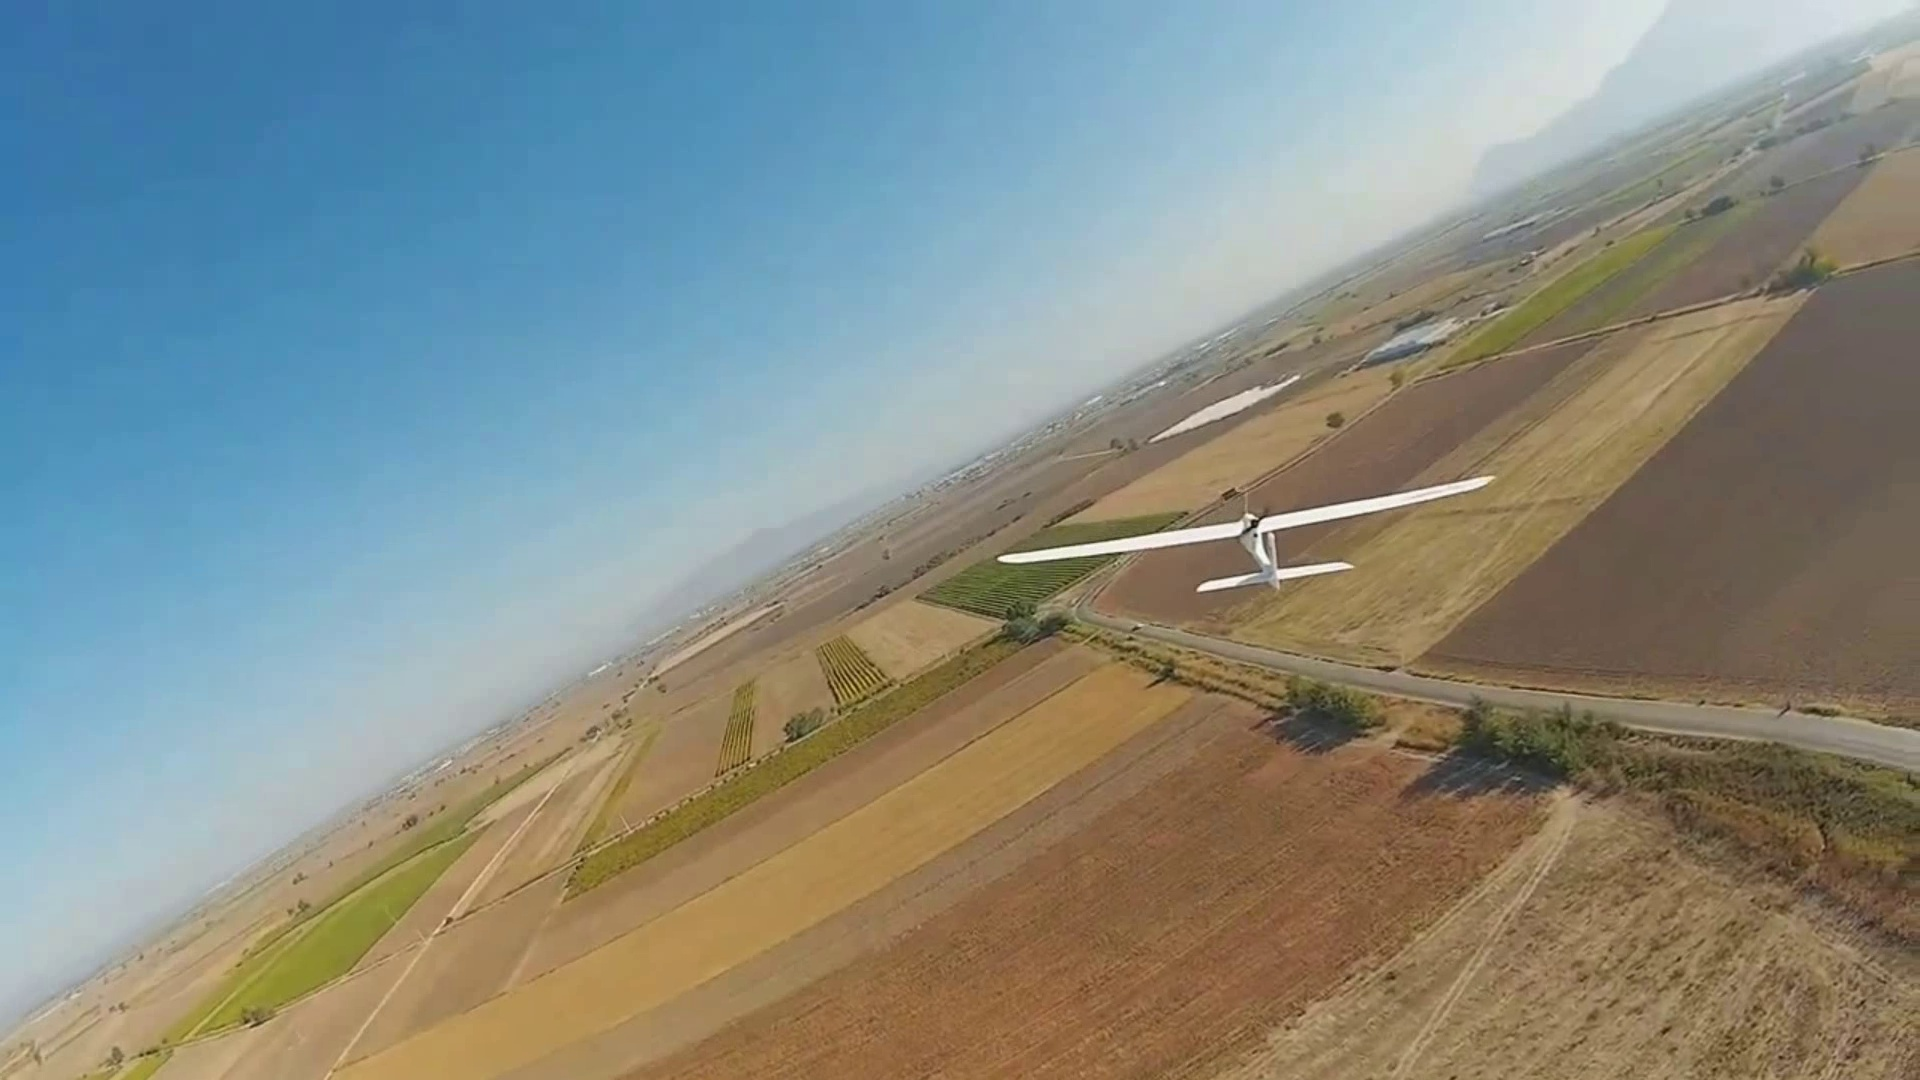airplane: (7, 49, 1919, 1073)
